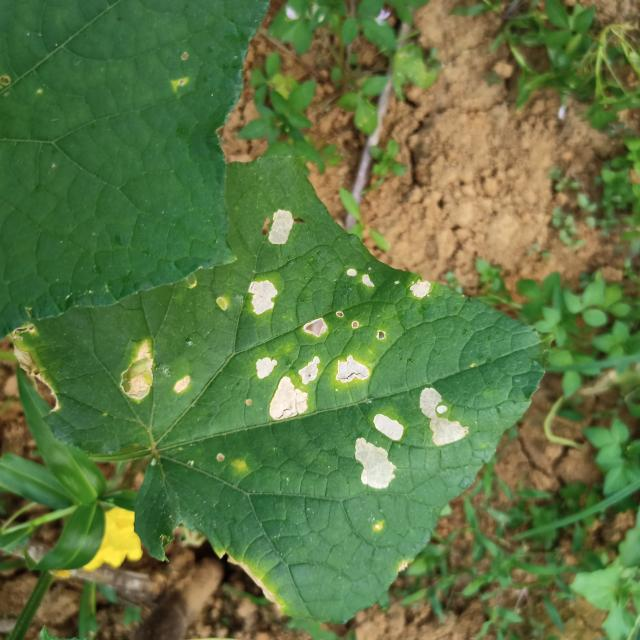disease_cucumber: (253, 317, 372, 423), (120, 339, 193, 405), (353, 413, 406, 493), (418, 386, 471, 450), (247, 278, 280, 318), (342, 264, 382, 295), (268, 206, 294, 251), (408, 277, 432, 301)
